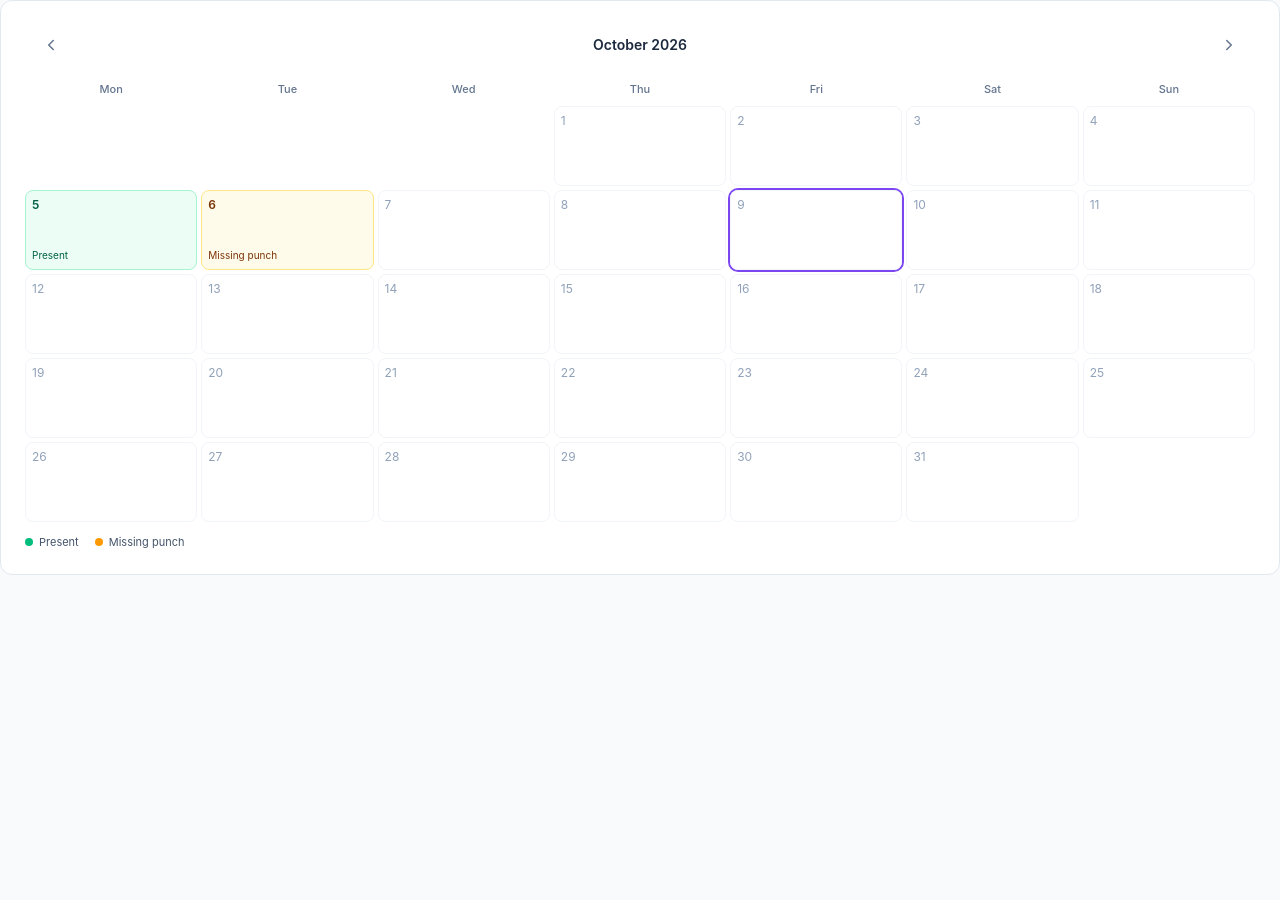
Calendar and day drawer › opens the explanation drawer, tolerating a punch load failure
Click the cell "6 Missing punch".
click(287, 230)  # box [201, 190, 374, 270]
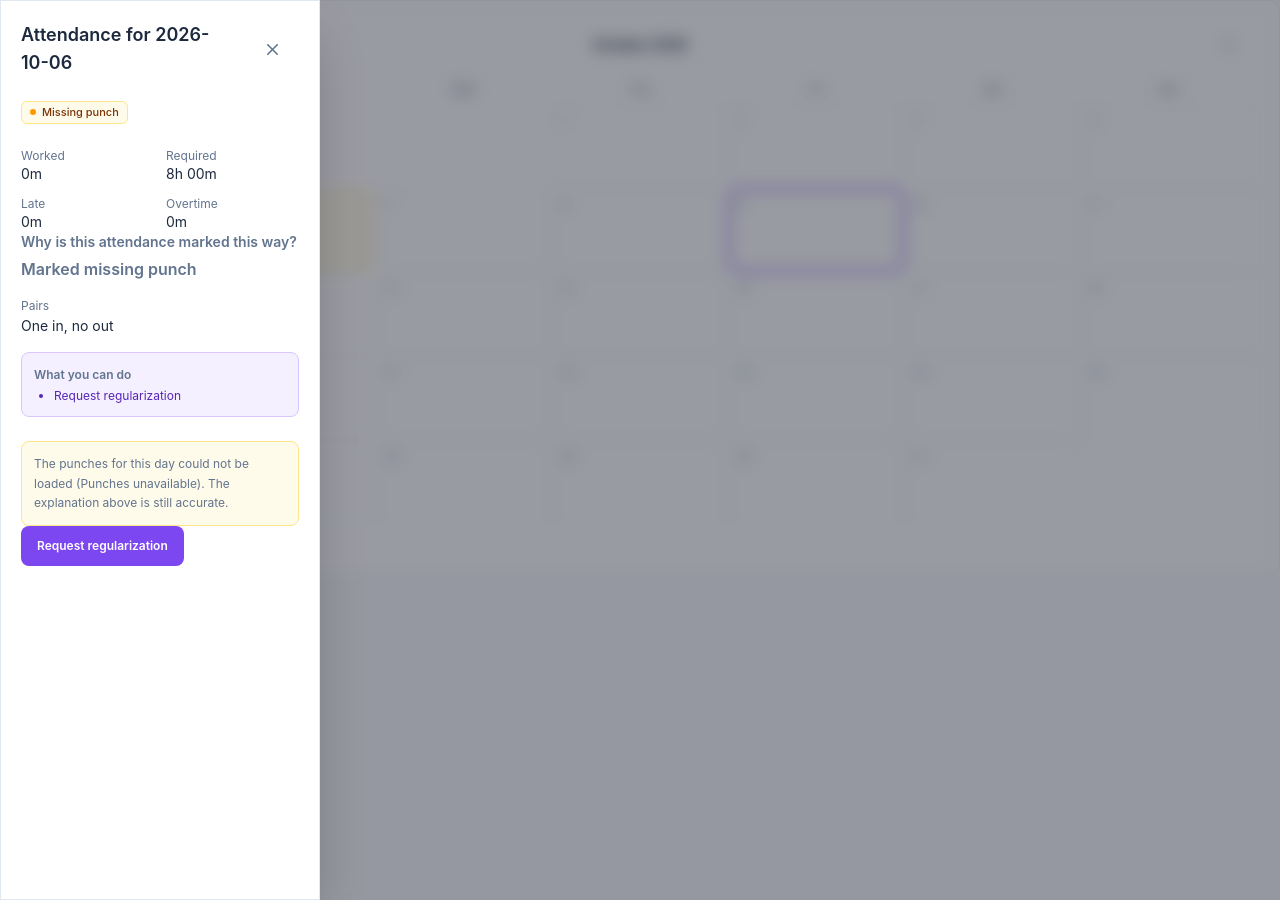
Result: the text "Marked missing punch" is shown at [21, 258, 197, 278]
Result: the text "One in, no out" is shown at [21, 316, 114, 334]
Result: the message shows "Punches unavailable" at [80, 476, 197, 490]
